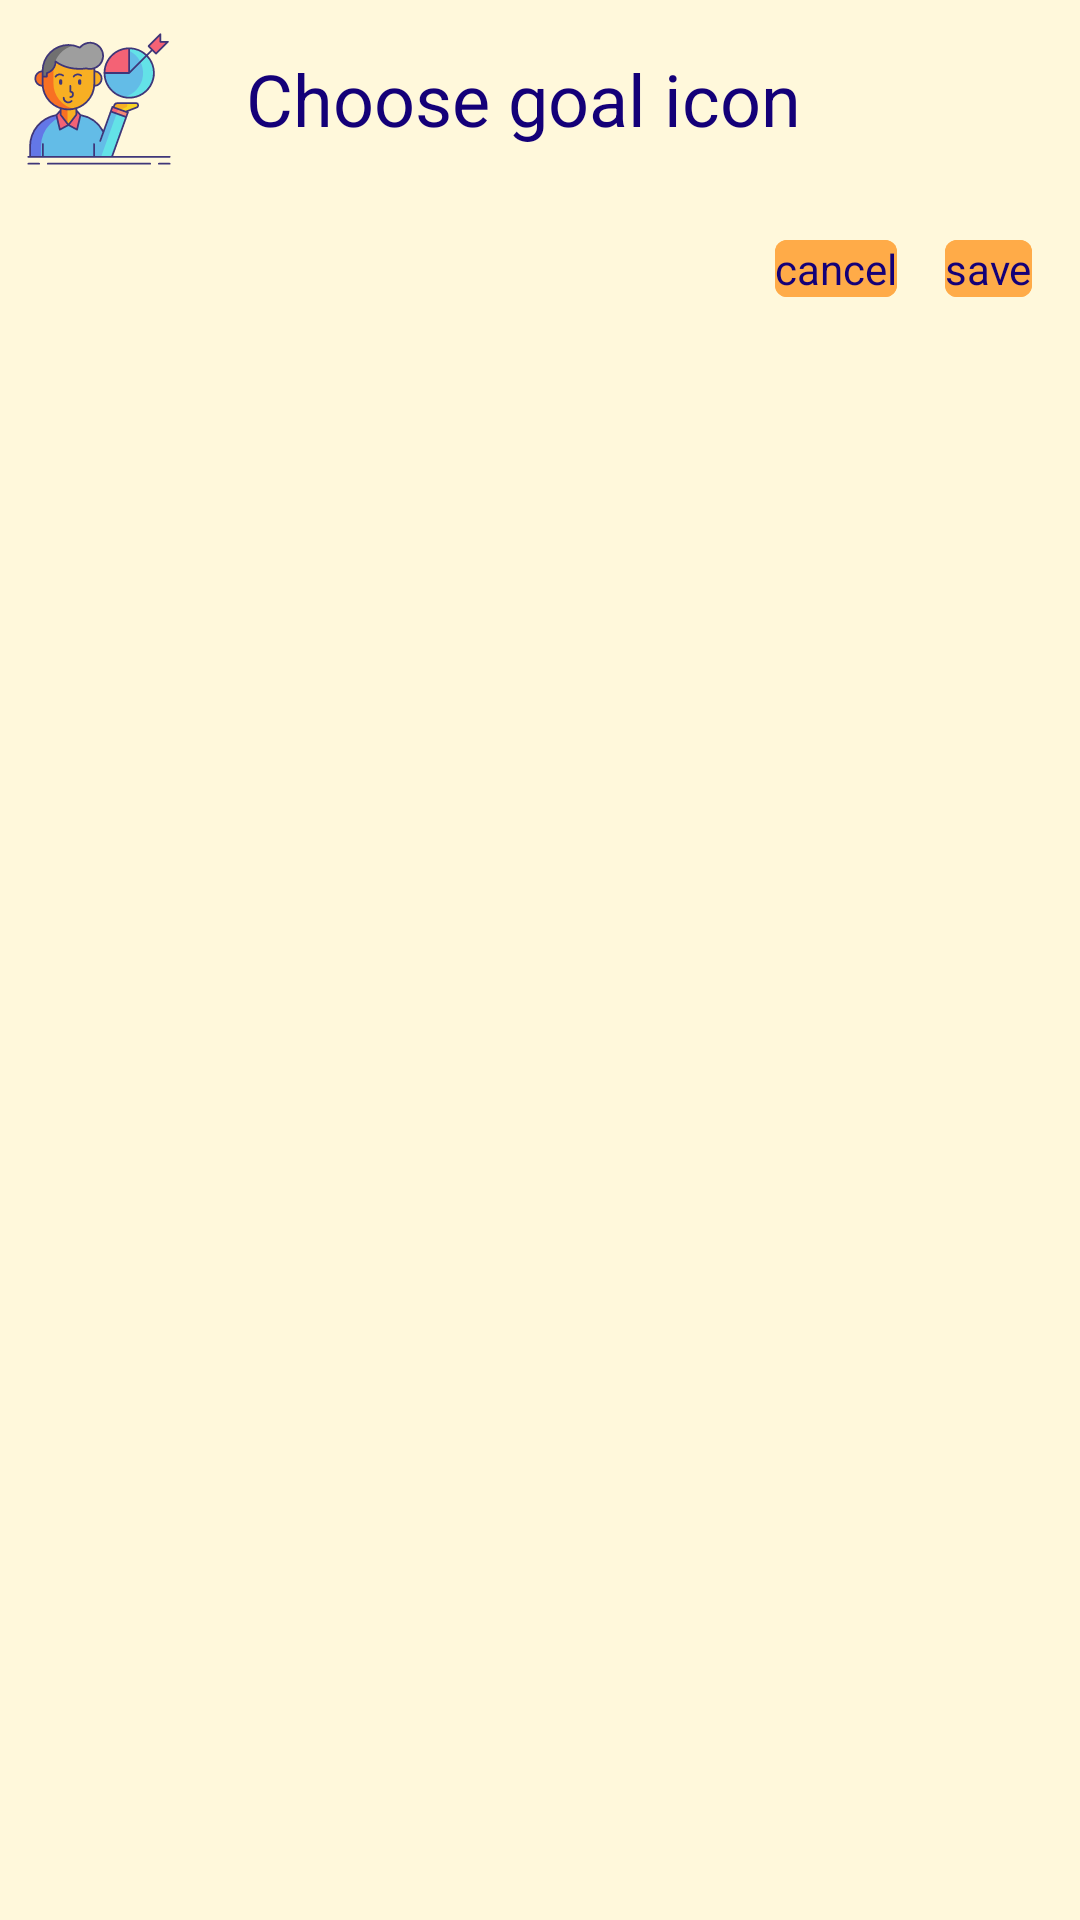

Point at icon controls on the screen. Image size 1080 × 1920, points as (x,y).
Icon for goals: (99,99)
